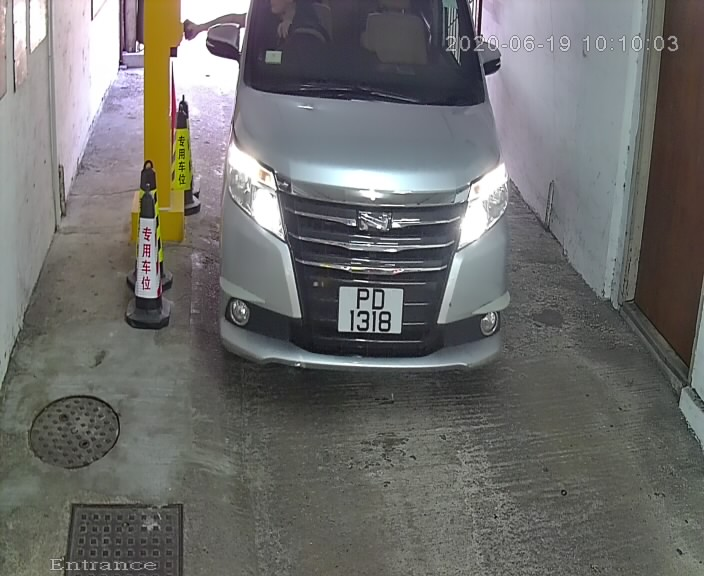privatecar: (195, 3, 532, 398)
